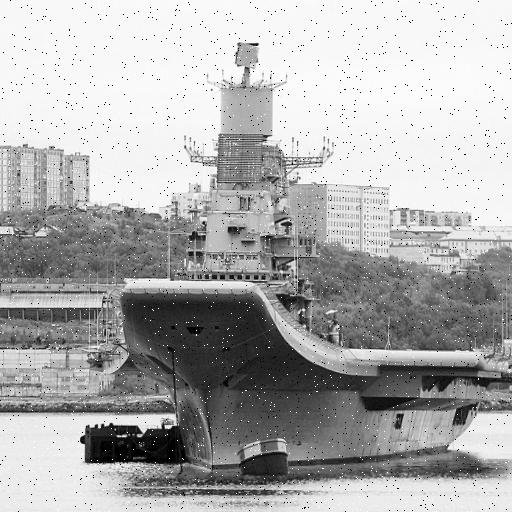Portanaves: (88, 35, 512, 475)
